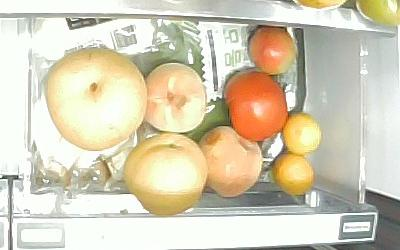peach: (197, 124, 264, 198), (142, 61, 207, 134)
pear: (44, 45, 149, 153), (124, 131, 208, 217)
tangerine: (270, 152, 316, 196), (281, 111, 324, 155)
tomato: (222, 68, 291, 141), (244, 23, 299, 76)
